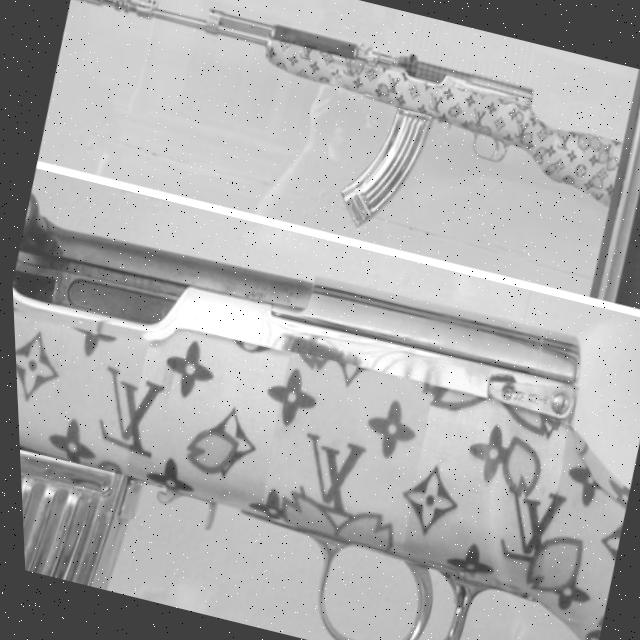firearm: (6, 182, 640, 640), (34, 0, 635, 282)
